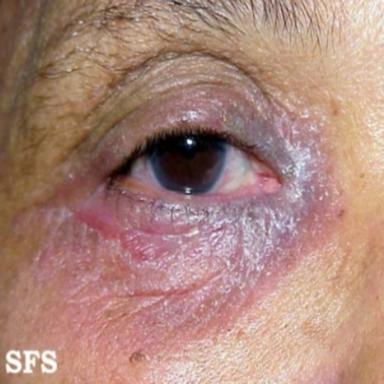Lupus-Erythematosus-Chronicus-Discoides: (4, 89, 341, 362)
